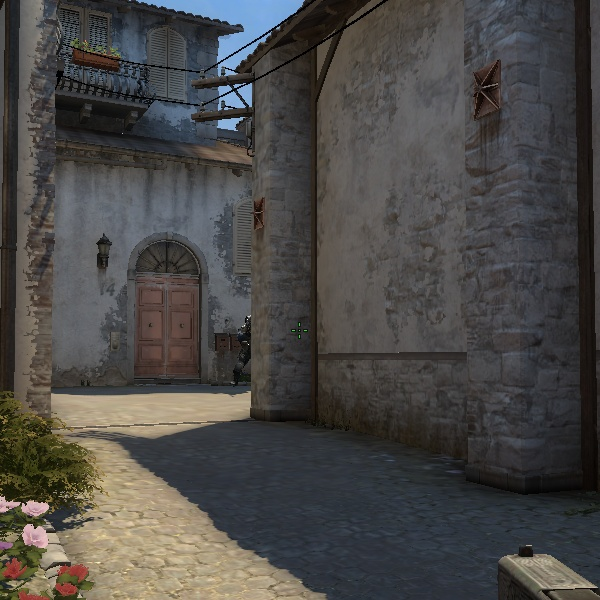ct_body: (228, 316, 255, 390)
